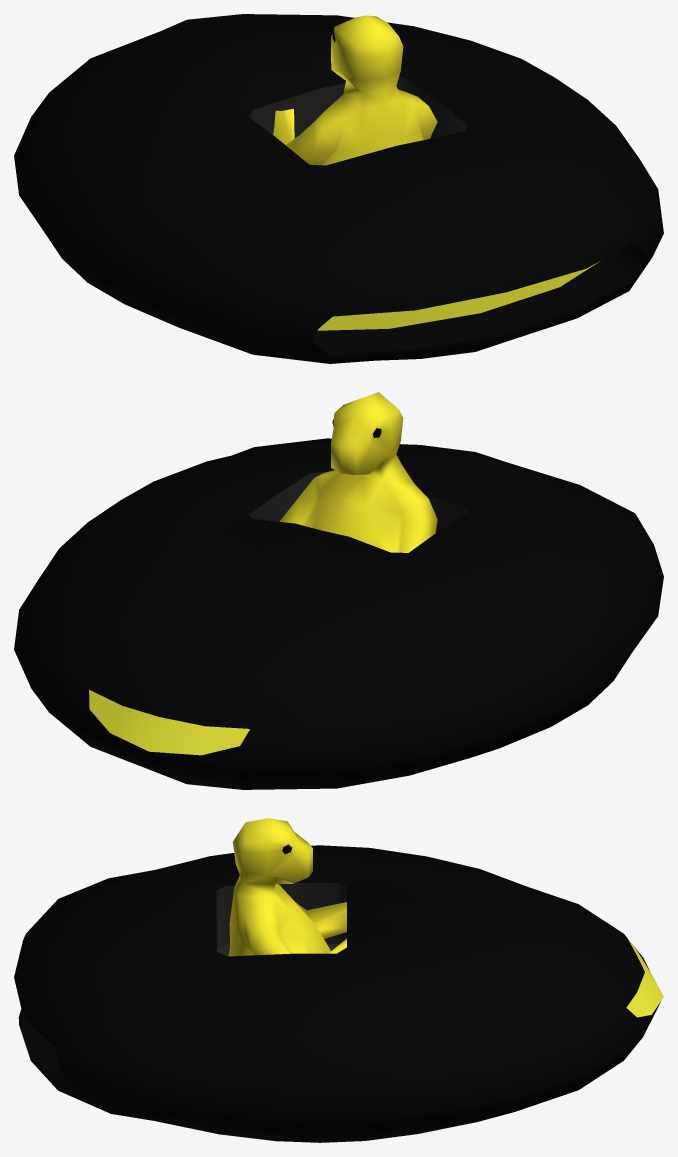
Rendered from Alienship.fbx.
The picture shows the model from 3 angles, top to bottom: view 1: azimuth 30°, elevation 25°; view 2: azimuth 150°, elevation 25°; view 3: azimuth 270°, elevation 25°; orthographic projection. The views are drawn at different scales.
Visible parts, largest first — view 1: FlareShip; view 2: FlareShip; view 3: FlareShip.
Boxes of the visible parts, box(x1,y1,x2,y2) form: FlareShip: box(14, 14, 663, 363); FlareShip: box(14, 392, 663, 789); FlareShip: box(14, 818, 663, 1142).
Bounding box in the file's own units: 13727 × 6654 × 15968.
